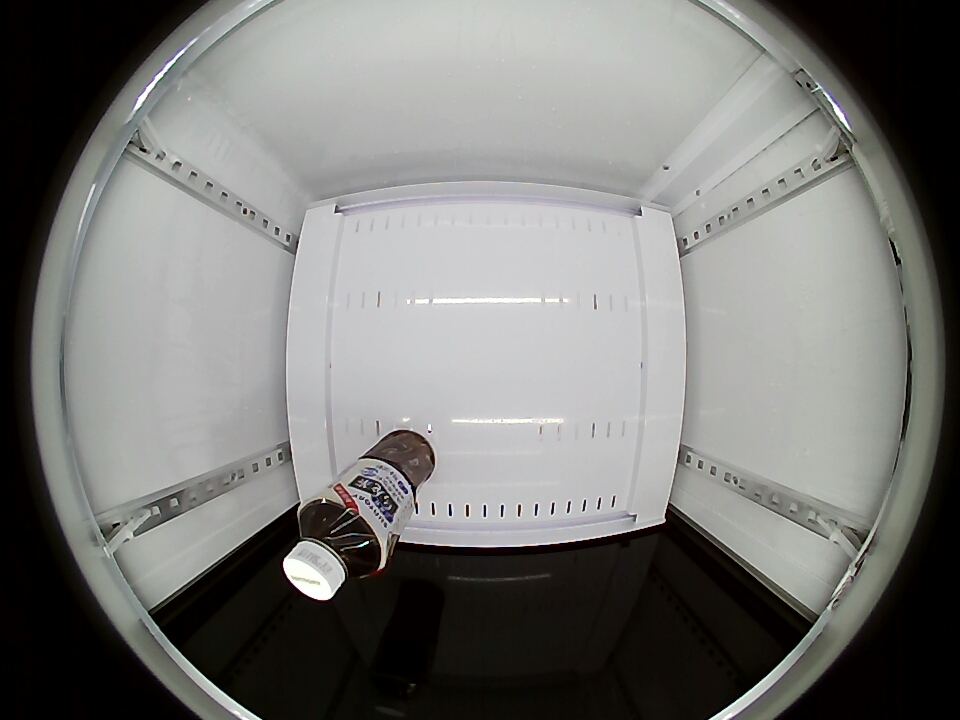wulongcha: (283, 493, 388, 601)
